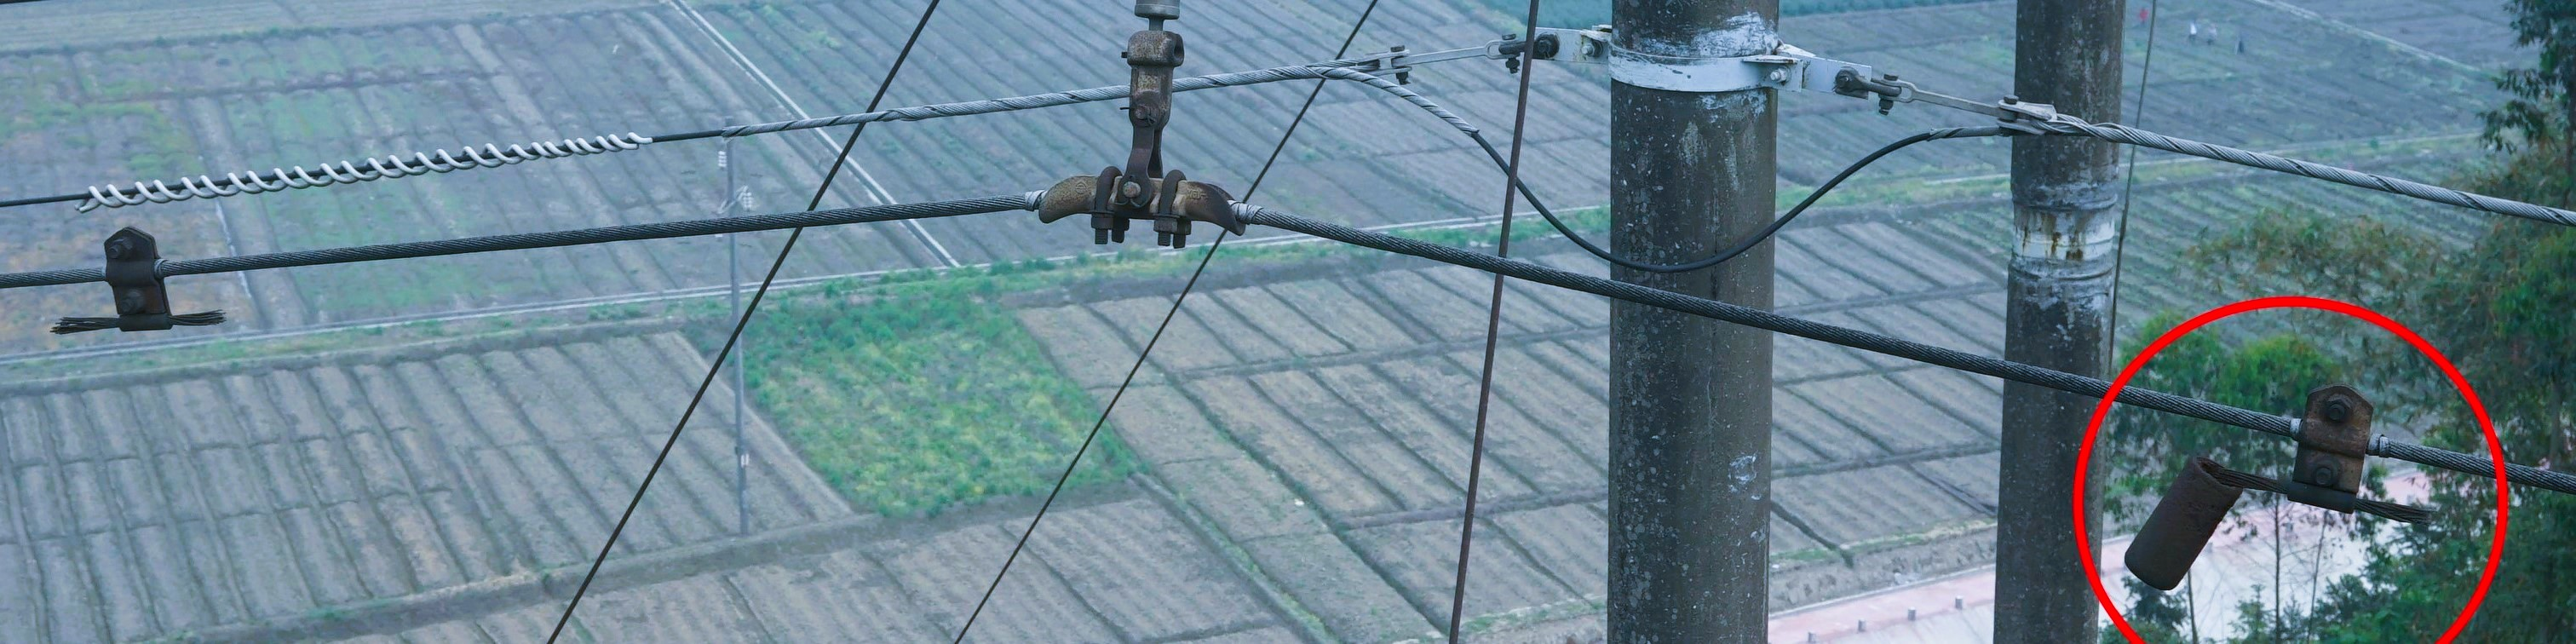Damage of shockproof hammer: (2116, 348, 2466, 601), (30, 200, 248, 361)
